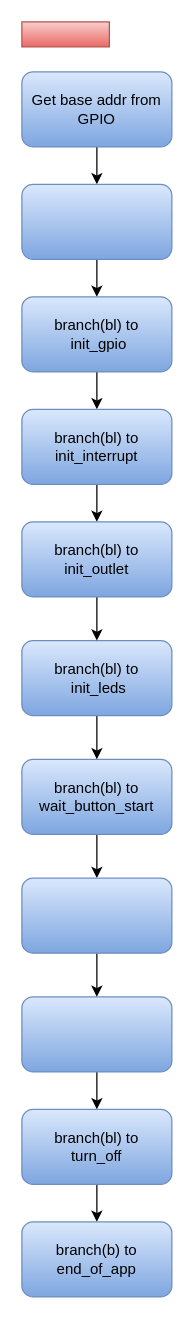
This 194x1319 diagram has some shape labels left out. Here are the shapes that lost their labels. From the top down, the centre of each, then its label:
point 65,34: hw_init:
point 96,221: Get base addr from Interrupt
point 96,915: branch(bl) to turn_on_counter
point 96,1034: branch(bl) to mainloop
